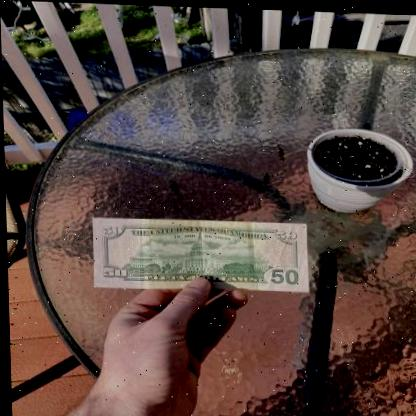dollar_back: (91, 216, 308, 292)
